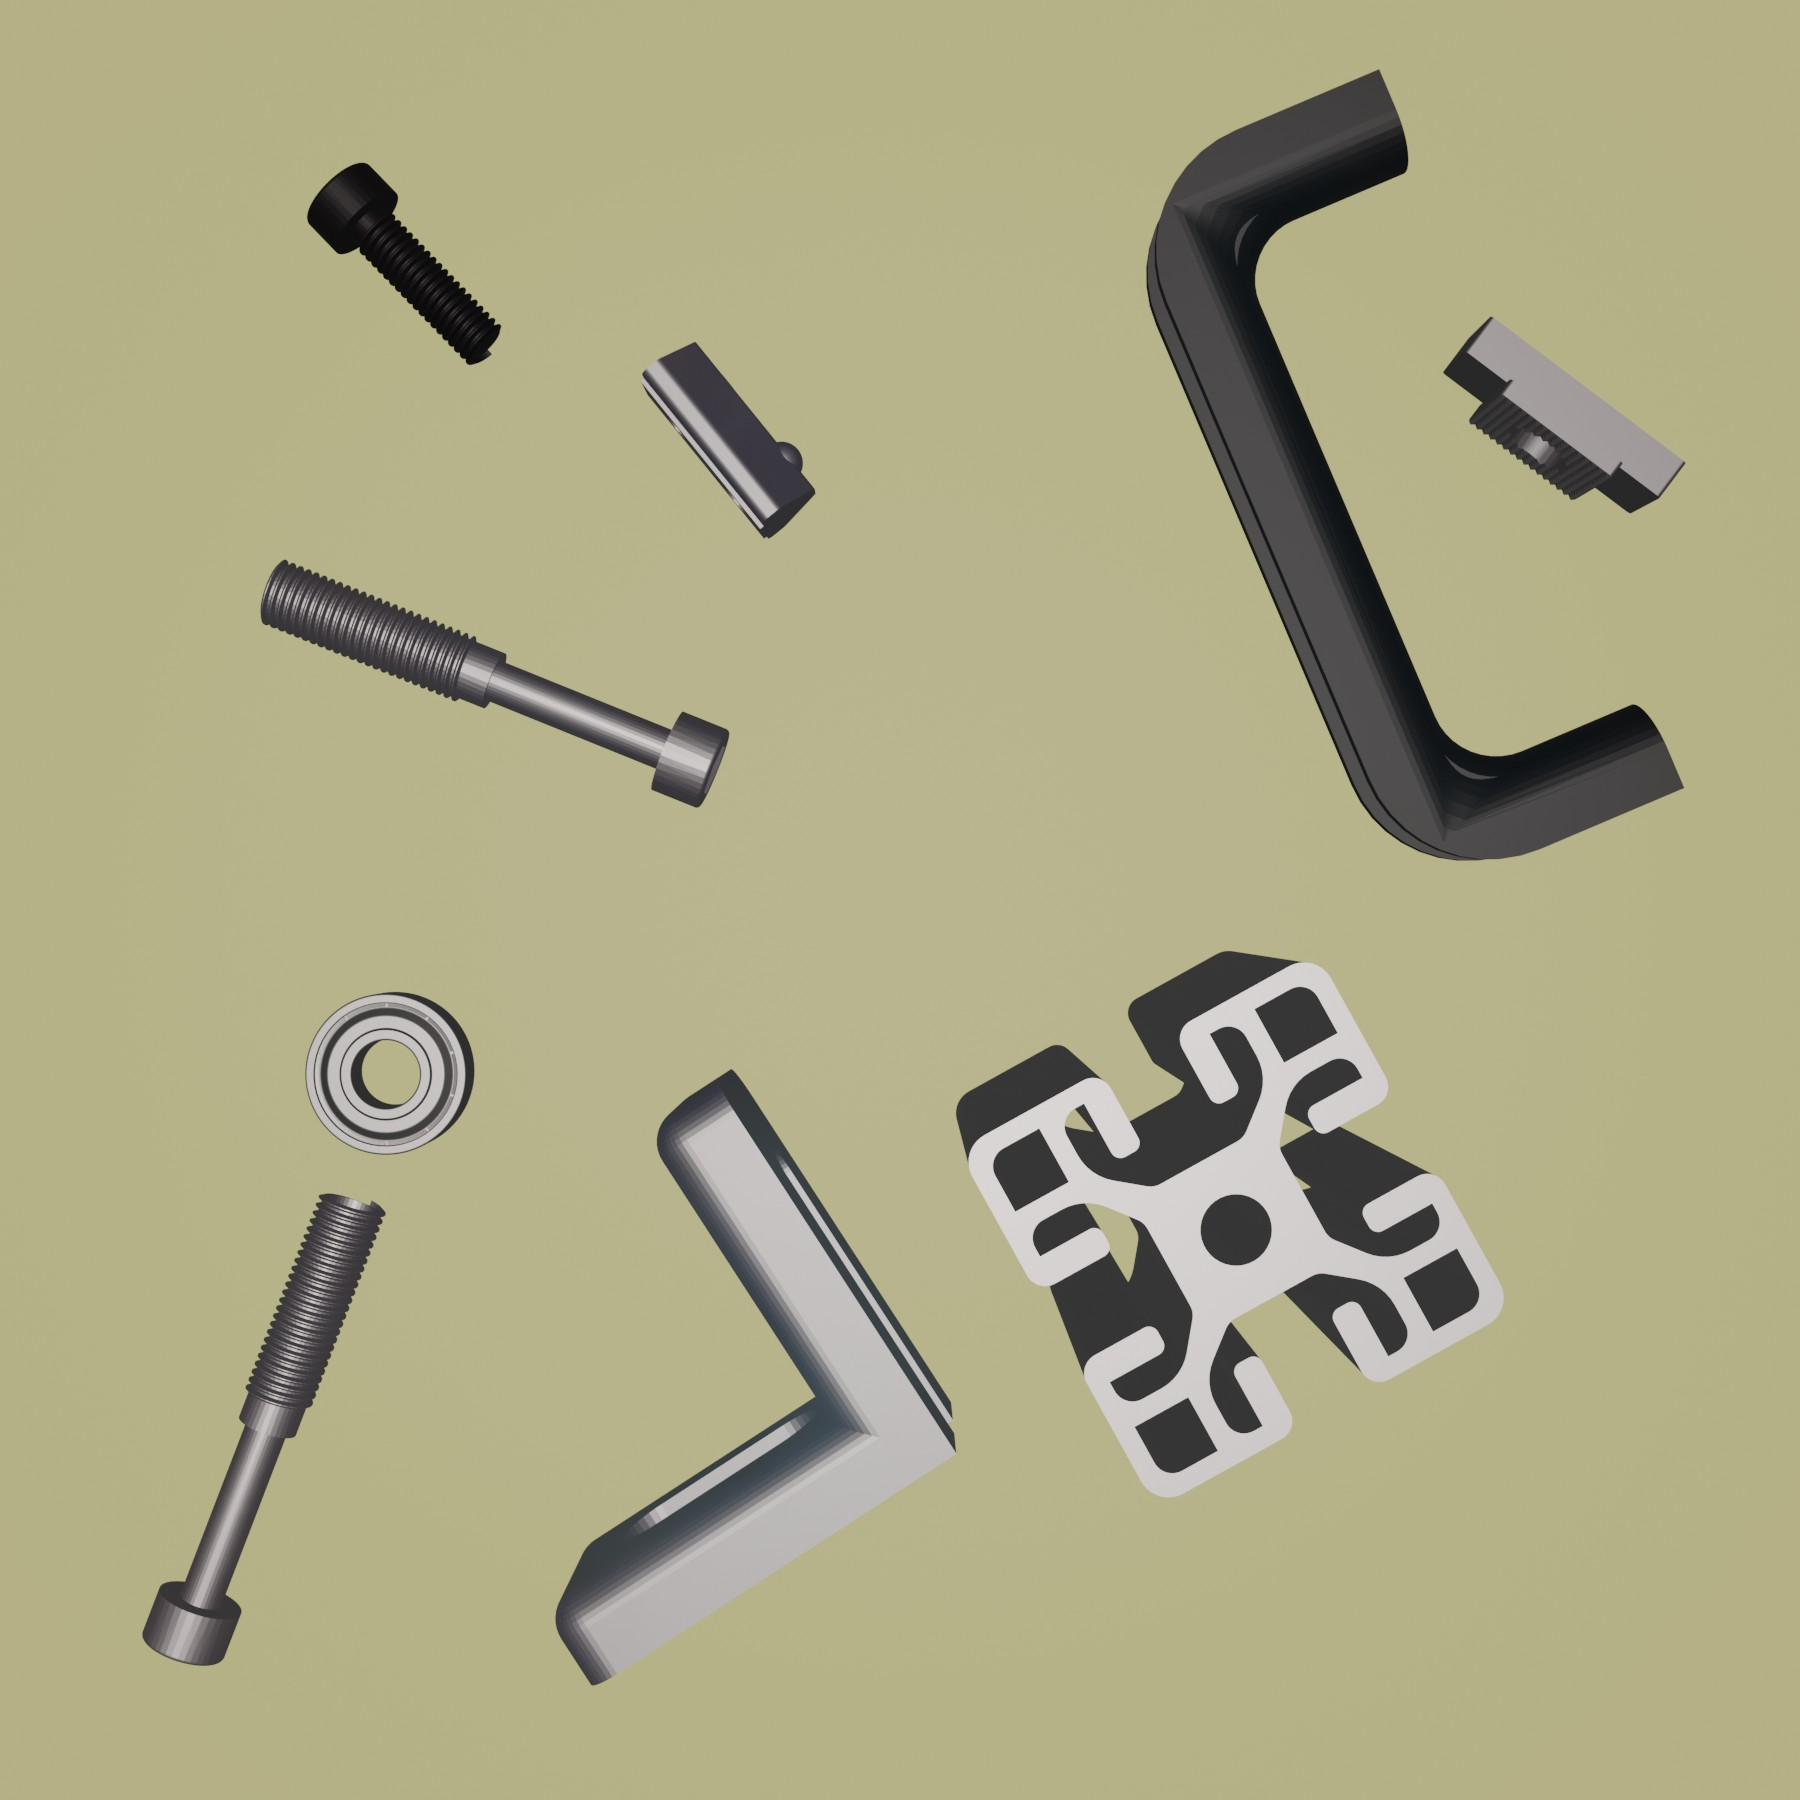Aluminium Extension: (954, 946, 1507, 1505)
Ball Bearing: (302, 991, 475, 1155)
Multiwinkel: (554, 1063, 959, 1690)
Pull Handle: (1142, 64, 1688, 864)
Shoulder Socket Head Cap Screw: (254, 559, 730, 813), (140, 1187, 387, 1668)
Socket Head Cap Screw: (303, 158, 503, 369)
T Nut Square: (1441, 315, 1688, 514)
T Spring Nut: (638, 340, 818, 541)
